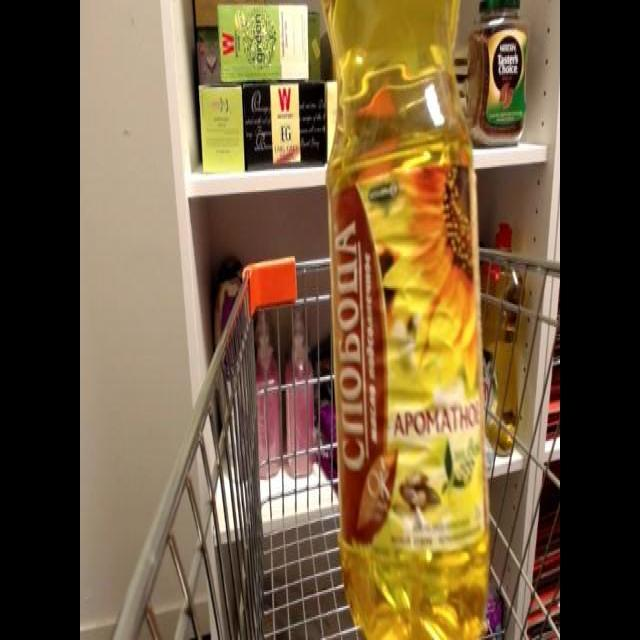Oil: (320, 2, 494, 638)
